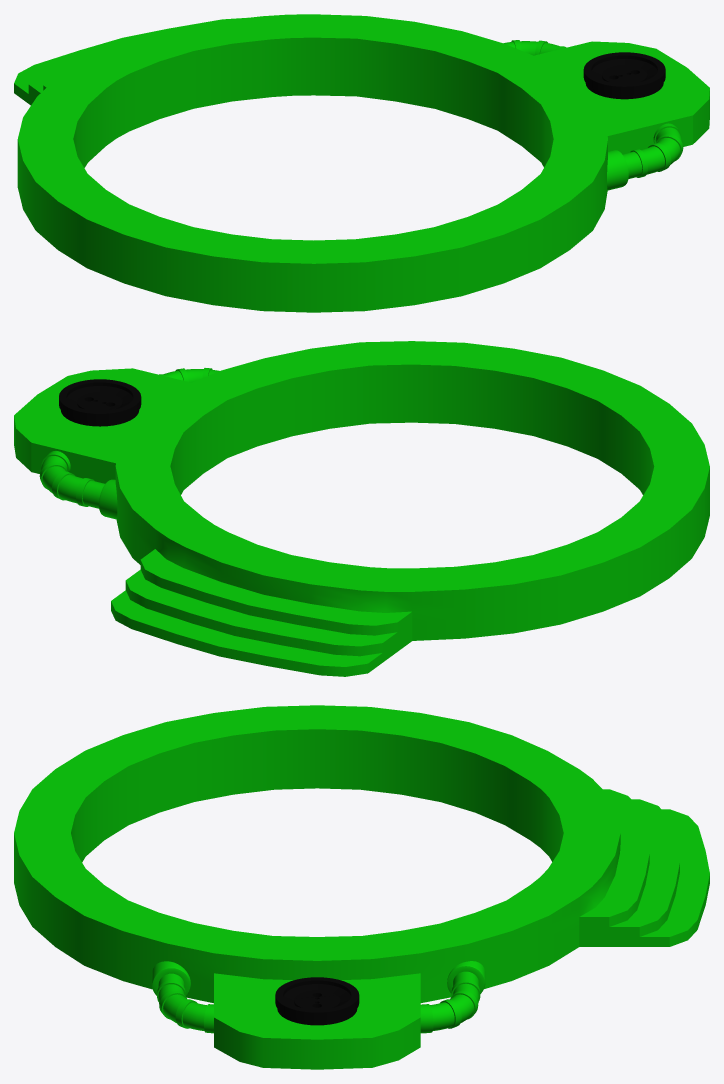
Rendered from ST_Chargeur.fbx.
3 views of the same model, one above another, from view 1: azimuth 30°, elevation 25°; view 2: azimuth 150°, elevation 25°; view 3: azimuth 270°, elevation 25° (orthographic). The views are drawn at different scales.
Parts seen in each view (by area): view 1: ST_Chargeur; view 2: ST_Chargeur; view 3: ST_Chargeur.
Boxes of the visible parts, left/top/right/bottom form: ST_Chargeur: left=14, top=14, right=709, bottom=312; ST_Chargeur: left=14, top=341, right=709, bottom=676; ST_Chargeur: left=14, top=705, right=709, bottom=1069.
Bounding box in the file's own units: 488 × 42.86 × 457.
